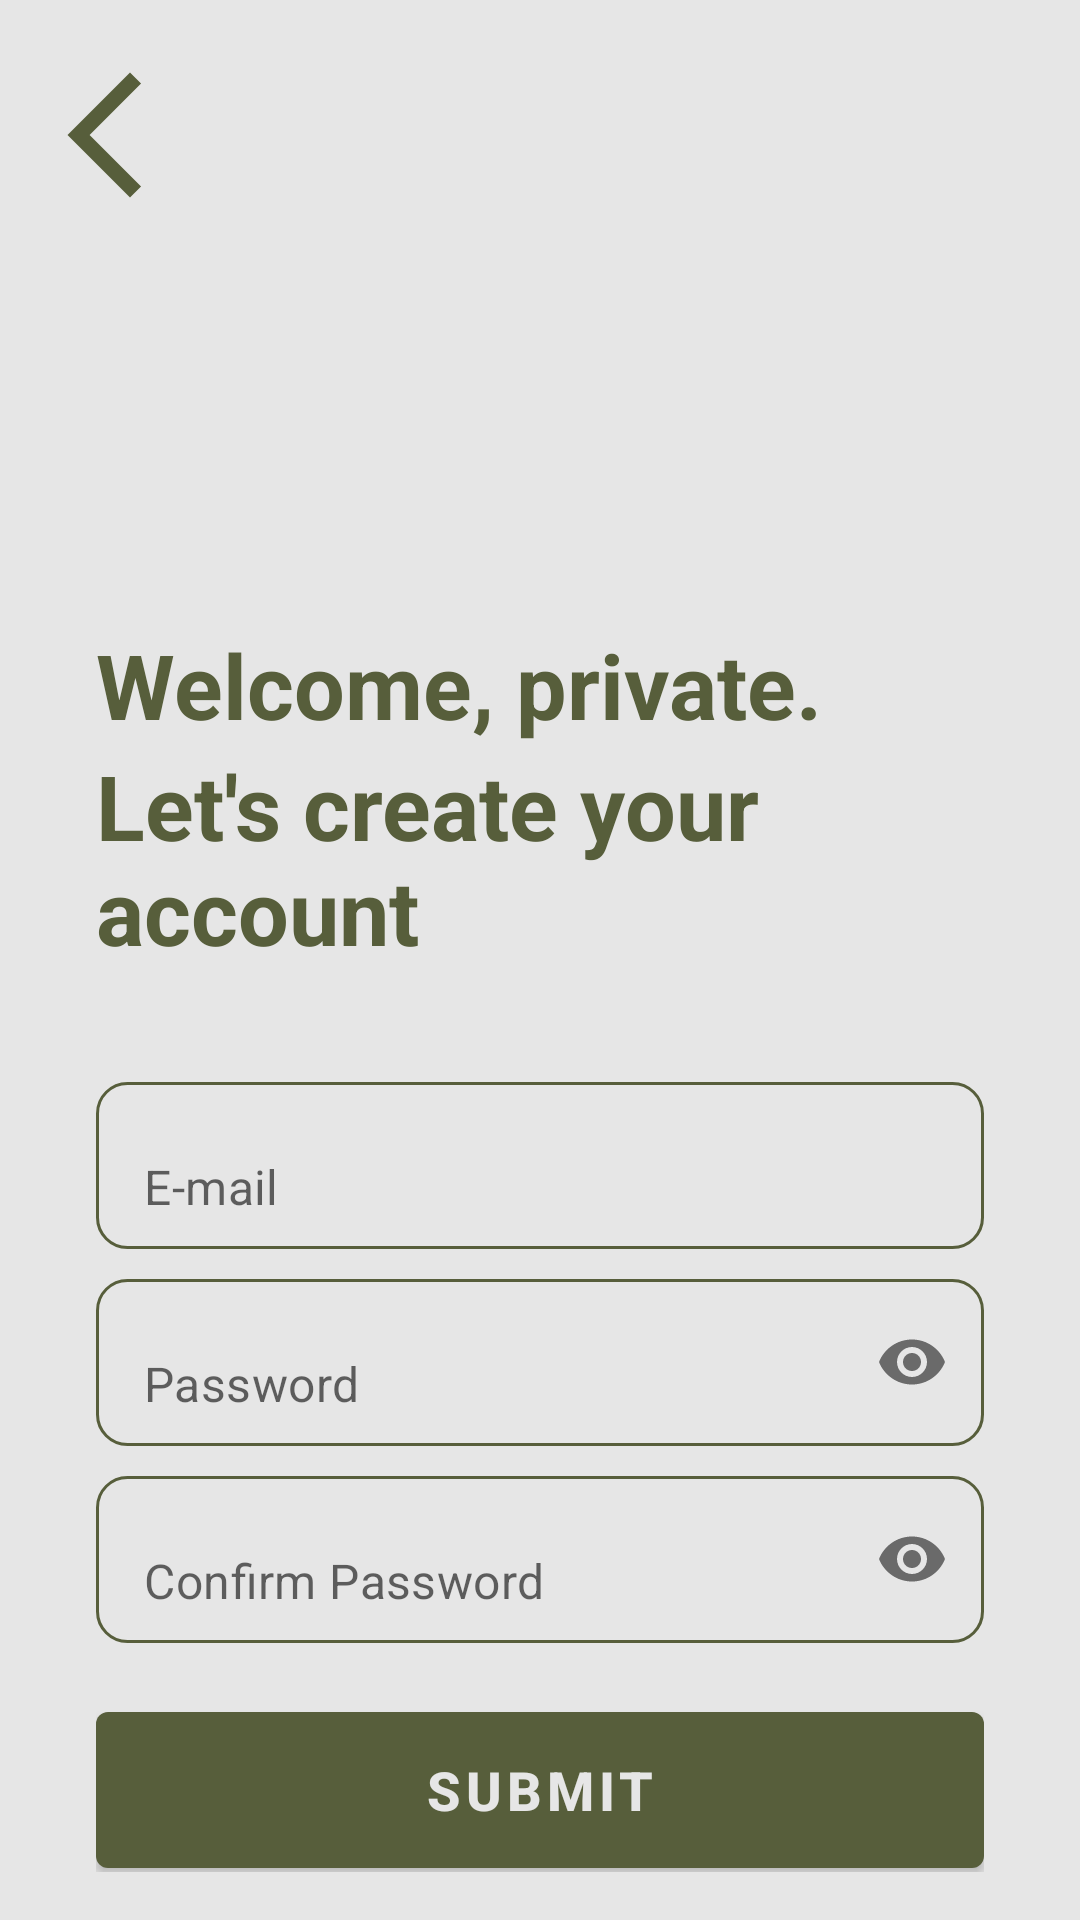

Locate icon controls on the screen. Image size 1080w x 1920h, boxes as (x1, y1, x2, y2).
arrow back: (68, 73, 141, 197)
